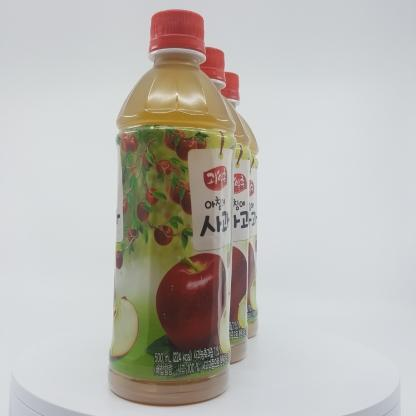--------500ML: (107, 9, 237, 404)
